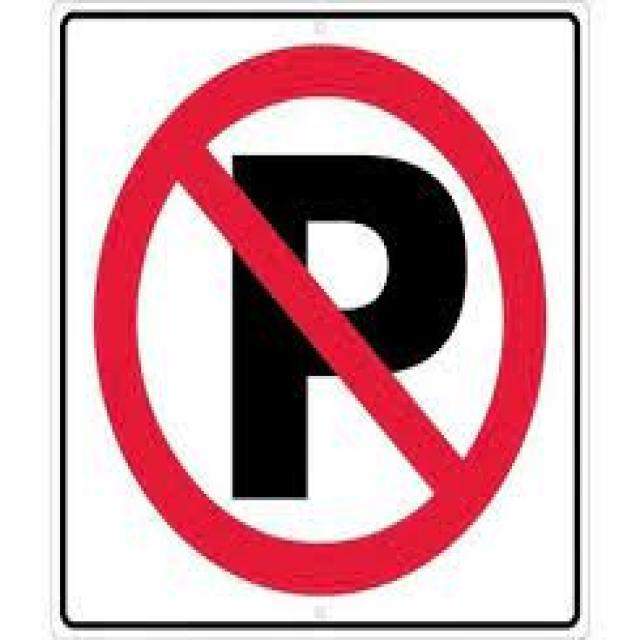no parking: (89, 40, 550, 596)
